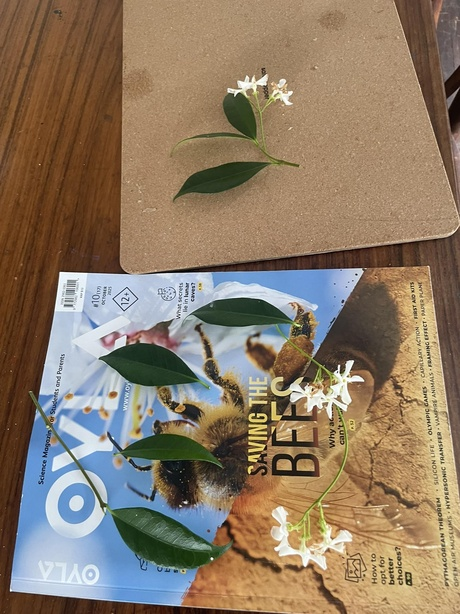leaf: (104, 503, 233, 573), (98, 343, 215, 390), (187, 294, 304, 332), (119, 436, 226, 471), (178, 160, 270, 198), (221, 88, 261, 143)
